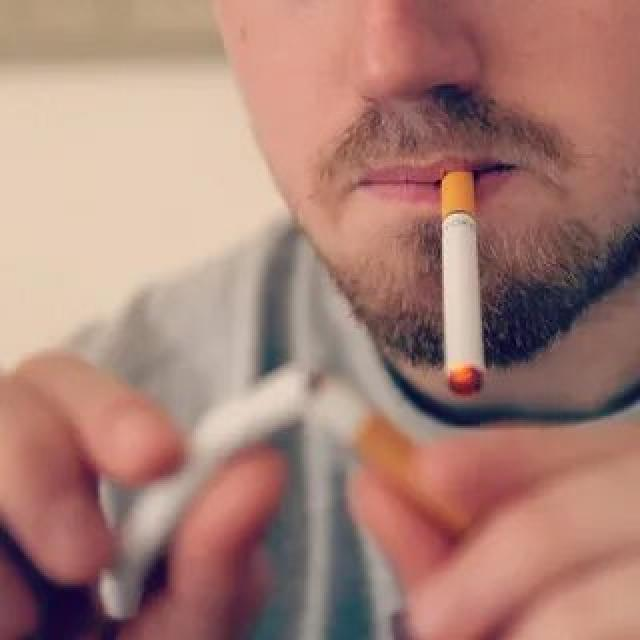smoke: (428, 158, 498, 408)
